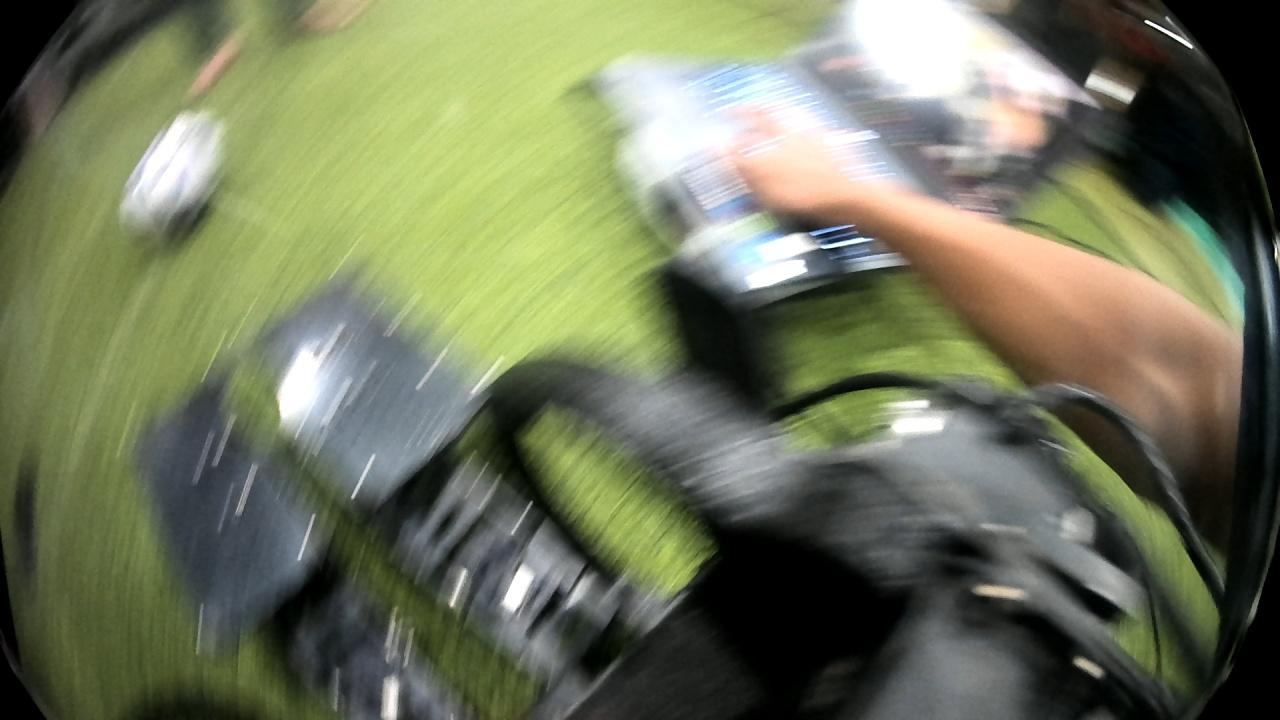ball: (110, 98, 238, 260)
